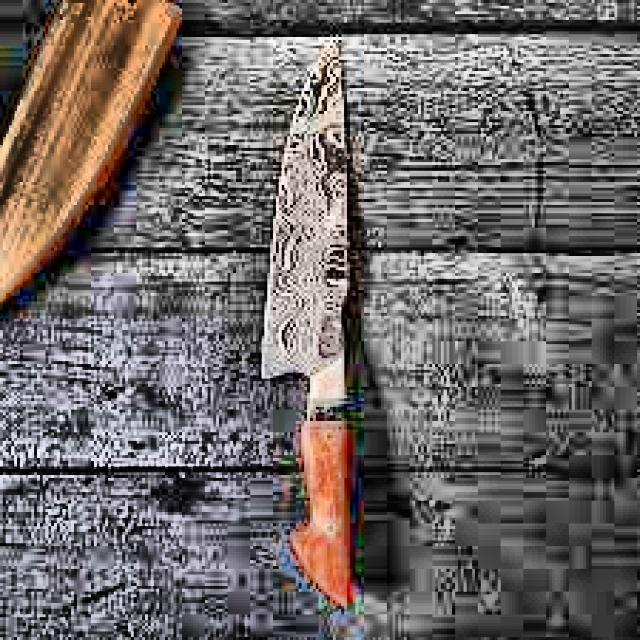knife: (262, 38, 355, 607)
